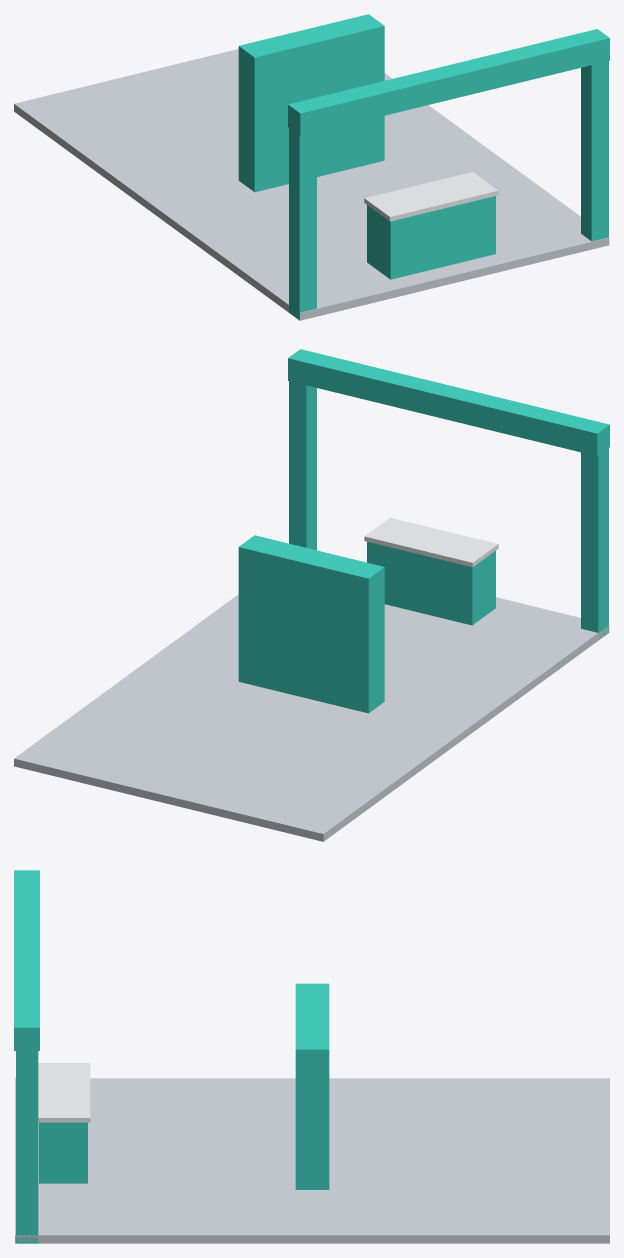
3 views of the same model, one above another, from view 1: azimuth 30°, elevation 25°; view 2: azimuth 150°, elevation 25°; view 3: azimuth 270°, elevation 25° (orthographic). The views are drawn at different scales.
Visible parts, largest first — view 1: Exhibition Booth Concept; view 2: Exhibition Booth Concept; view 3: Exhibition Booth Concept.
Boxes of the visible parts, x1=… form: Exhibition Booth Concept: x1=14, y1=14, x2=609, y2=320; Exhibition Booth Concept: x1=14, y1=349, x2=609, y2=841; Exhibition Booth Concept: x1=14, y1=870, x2=609, y2=1243.
Size of the model in its own units: 5 by 3.2 by 8.01.
